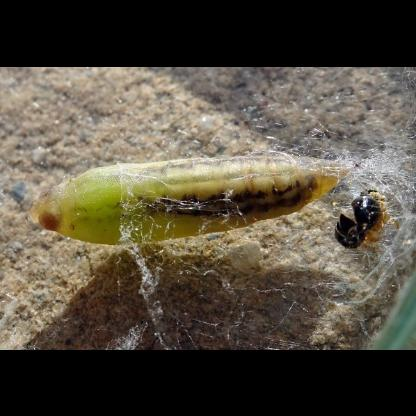oruga: (26, 136, 366, 256)
